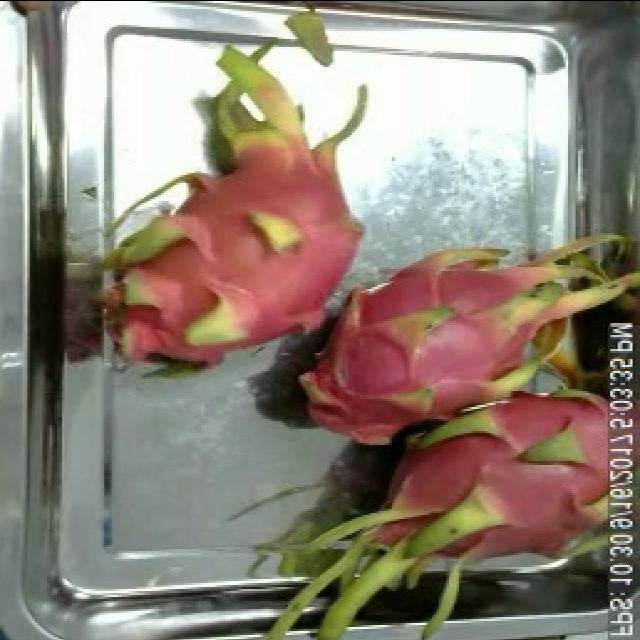Fruit: (283, 280, 457, 462), (2, 0, 62, 20)
